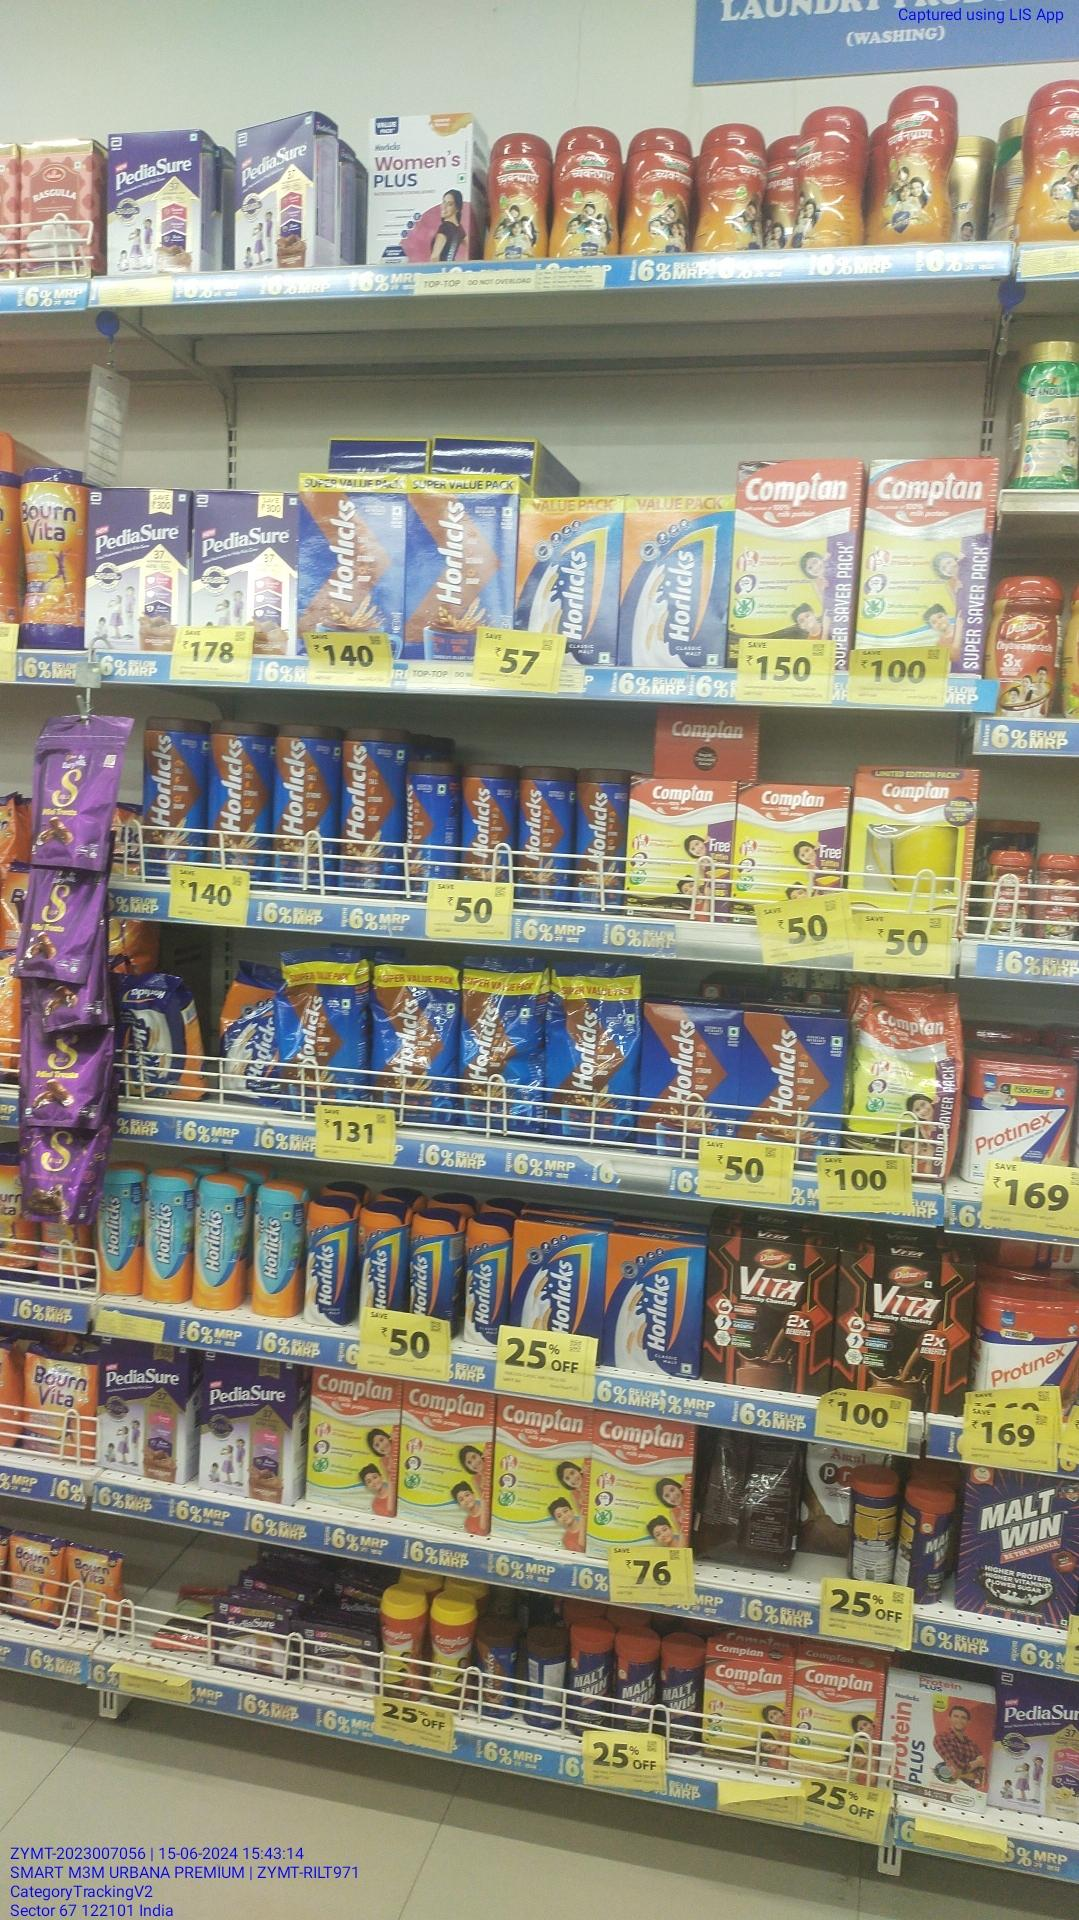BOURN_VITA_500_G_JAR: (21, 460, 82, 647)
BOURN_VITA_500_G_POUCH: (25, 1346, 92, 1462)
BOURN_VITA_75_G_POUCH: (9, 1531, 61, 1629), (69, 1552, 123, 1635)
COMPLAN_CHOCOLATE_1_KG_PACK: (736, 463, 853, 633), (298, 473, 402, 633), (408, 476, 516, 626)
COMPLAN_CHOCOLATE_500_GMS_JAR: (429, 1596, 474, 1709), (380, 1589, 423, 1700)
COMPLAN_CREAMY_CLASSIC_500_G_PACK: (401, 1382, 487, 1535), (492, 1402, 583, 1540), (592, 1411, 685, 1547), (305, 1369, 394, 1506)
COMPLAN_KESAR_BADAM_500_GMS_PACK: (793, 1659, 879, 1787)
HORLICKS_LITE_REGULAR_MALT_500_GM_JAR: (191, 1174, 240, 1311), (255, 1183, 298, 1320), (142, 1171, 187, 1302), (99, 1172, 139, 1298)
HORLICK_CHOCOLATE_1_KG_JAR: (274, 723, 336, 894), (340, 729, 402, 895), (208, 723, 270, 869), (145, 719, 206, 862)
HORLICK_CHOCOLATE_200_G_JAR: (476, 1629, 516, 1717)
HORLICK_CHOCOLATE_500_G_JAR: (518, 766, 572, 909), (576, 769, 625, 914), (463, 764, 514, 884), (406, 764, 459, 876)
HORLICK_CHOCOLATE_500_G_PACK: (852, 986, 966, 1156), (641, 1002, 736, 1137), (741, 1010, 843, 1135)
HORLICK_CHOCOLATE_750_G_POUCH: (547, 961, 632, 1142), (278, 952, 365, 1106), (463, 964, 538, 1135), (373, 959, 458, 1106)
HORLICK_CLASSIC_MALT_500_G_JAR: (303, 1201, 351, 1327), (409, 1203, 459, 1315), (463, 1217, 505, 1345), (360, 1203, 408, 1311)
HORLICK_CLASSIC_MALT_500_G_PACK: (624, 497, 724, 670), (607, 1232, 696, 1377), (522, 498, 619, 630), (512, 1218, 600, 1333)
PEDIASURE_CHOCOLATE_500_G_PACK: (191, 492, 295, 629), (87, 491, 190, 628), (200, 1354, 294, 1505), (107, 132, 199, 277), (235, 123, 311, 270)
PEDIASURE_VANILLA_500_G_PACK: (98, 1338, 183, 1481)
PROTINEX_CHOCOLATE_400_G_JAR: (973, 1288, 1079, 1387)
PROTINEX_VANILLA_400_G_JAR: (970, 1062, 1071, 1160)
